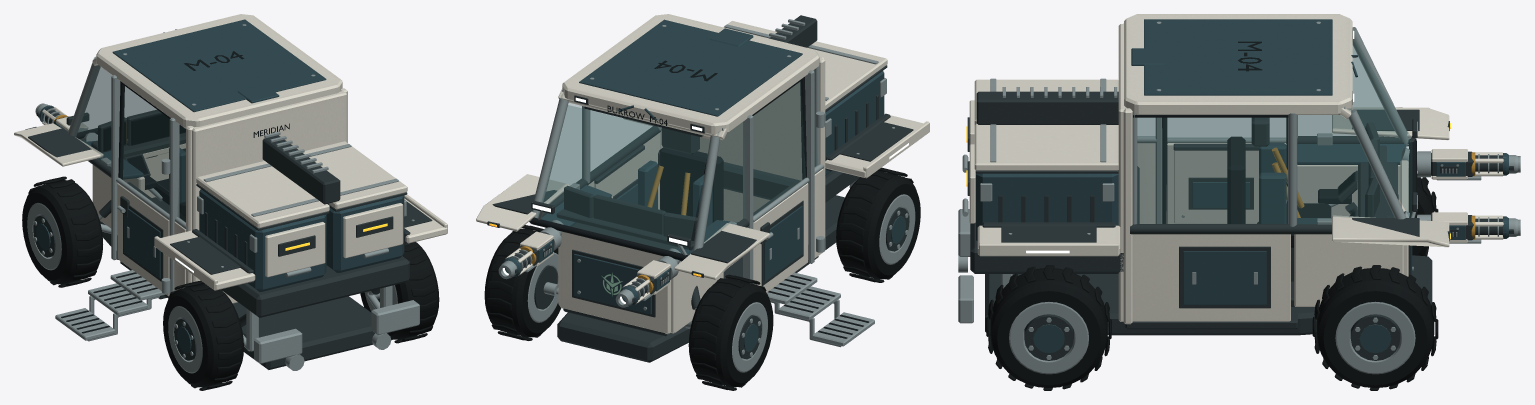
The model's file is mining-rover.glb.
3 views of the same model, side by side, from view 1: azimuth 30°, elevation 25°; view 2: azimuth 150°, elevation 25°; view 3: azimuth 270°, elevation 25° (orthographic). The views are drawn at different scales.
Visible parts, largest first — view 1: MiningRover_Surface Geometry, Wheel_FrontPort_Surface Geometry, Wheel_RearPort_Surface Geometry, CabinDoor_Surface Geometry, CabinDoor_Glazing Geometry, MiningRover_Glazing Geometry, BoardingSteps_Surface Geometry, Wheel_RearStarboard_Surface Geometry, Wheel_RearPort_Surface.001 Geometry, Wheel_FrontPort_Surface.001 Geometry, RoverDisplay_Surface.001 Geometry, Cutter_Port_Surface Geometry (+1 smaller); view 2: MiningRover_Surface Geometry, MiningRover_Glazing Geometry, Wheel_FrontPort_Surface Geometry, Wheel_RearPort_Surface Geometry, CabinDoor_Surface Geometry, CabinDoor_Glazing Geometry, Wheel_FrontStarboard_Surface Geometry, BoardingSteps_Surface Geometry, Wheel_RearPort_Surface.001 Geometry, Wheel_FrontPort_Surface.001 Geometry, RoverDisplay_Surface Geometry, Cutter_Starboard_Surface Geometry (+5 smaller); view 3: MiningRover_Surface Geometry, MiningRover_Glazing Geometry, Wheel_FrontStarboard_Surface Geometry, Wheel_RearStarboard_Surface Geometry, CabinDoor_Surface Geometry, Wheel_RearStarboard_Surface.001 Geometry, Wheel_FrontStarboard_Surface.001 Geometry, Cutter_Port_Surface Geometry, Cutter_Starboard_Surface Geometry, CabinDoor_Glazing Geometry, Wheel_FrontPort_Surface Geometry.
Boxes of the visible parts, <box> form: MiningRover_Surface Geometry: <box>14,14,447,370</box>; Wheel_FrontPort_Surface Geometry: <box>22,176,102,287</box>; Wheel_RearPort_Surface Geometry: <box>163,280,243,390</box>; CabinDoor_Surface Geometry: <box>116,81,170,296</box>; CabinDoor_Glazing Geometry: <box>120,86,169,213</box>; MiningRover_Glazing Geometry: <box>74,65,185,222</box>; BoardingSteps_Surface Geometry: <box>55,270,166,341</box>; Wheel_RearStarboard_Surface Geometry: <box>360,242,439,343</box>; Wheel_RearPort_Surface.001 Geometry: <box>168,306,202,373</box>; Wheel_FrontPort_Surface.001 Geometry: <box>27,203,61,270</box>; RoverDisplay_Surface.001 Geometry: <box>132,114,185,144</box>; Cutter_Port_Surface Geometry: <box>35,103,88,139</box>; MiningRover_Surface Geometry: <box>476,14,929,362</box>; MiningRover_Glazing Geometry: <box>537,70,817,254</box>; Wheel_FrontPort_Surface Geometry: <box>688,274,773,390</box>; Wheel_RearPort_Surface Geometry: <box>836,167,920,282</box>; CabinDoor_Surface Geometry: <box>752,77,809,292</box>; CabinDoor_Glazing Geometry: <box>753,82,805,215</box>; Wheel_FrontStarboard_Surface Geometry: <box>484,225,560,340</box>; BoardingSteps_Surface Geometry: <box>767,272,874,347</box>; Wheel_RearPort_Surface.001 Geometry: <box>879,194,915,264</box>; Wheel_FrontPort_Surface.001 Geometry: <box>732,302,767,372</box>; RoverDisplay_Surface Geometry: <box>593,194,665,234</box>; Cutter_Starboard_Surface Geometry: <box>498,227,561,279</box>; MiningRover_Surface Geometry: <box>958,14,1449,335</box>; MiningRover_Glazing Geometry: <box>1137,39,1411,224</box>; Wheel_FrontStarboard_Surface Geometry: <box>1312,265,1438,390</box>; Wheel_RearStarboard_Surface Geometry: <box>986,265,1111,390</box>; CabinDoor_Surface Geometry: <box>1162,117,1287,223</box>; Wheel_RearStarboard_Surface.001 Geometry: <box>1009,302,1088,374</box>; Wheel_FrontStarboard_Surface.001 Geometry: <box>1335,301,1415,374</box>; Cutter_Port_Surface Geometry: <box>1417,149,1520,180</box>; Cutter_Starboard_Surface Geometry: <box>1417,212,1520,243</box>; CabinDoor_Glazing Geometry: <box>1168,118,1285,137</box>; Wheel_FrontPort_Surface Geometry: <box>1408,168,1438,256</box>.
Size of the model in its own units: 3.02 by 2.5 by 4.65.
9 materials, 2 textured.
